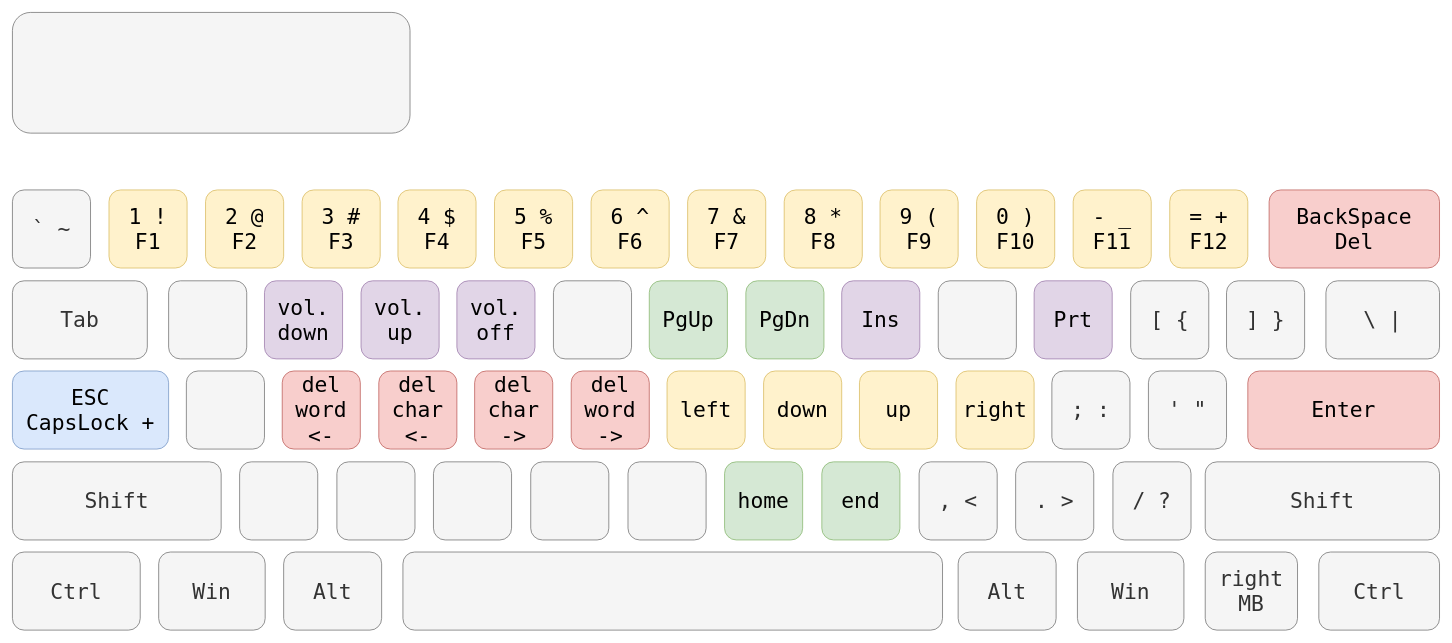
Image size: 1452x643. Some labels were removed from this diagram. Here are the shapes that lost their labels. From the top down, the box of each, then its label:
(12, 12, 410, 133): Legend: upper row: std fn / shift fn lower row: capslock fn
(402, 551, 943, 630): Space
